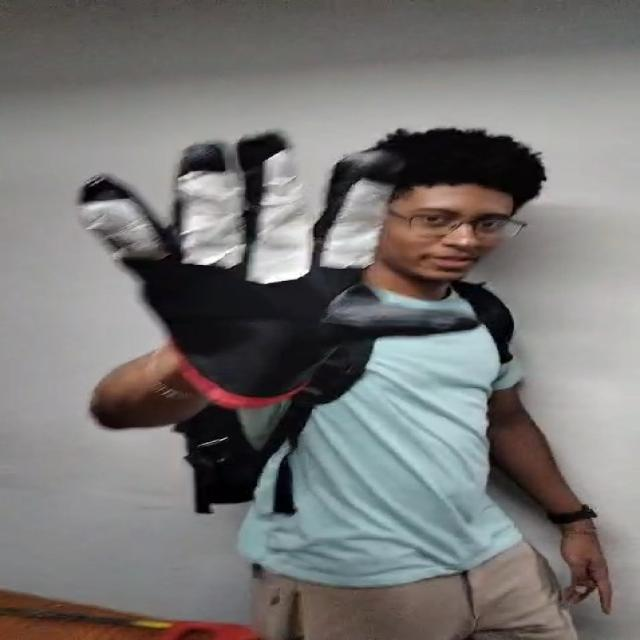Gloves: (90, 130, 479, 414)
